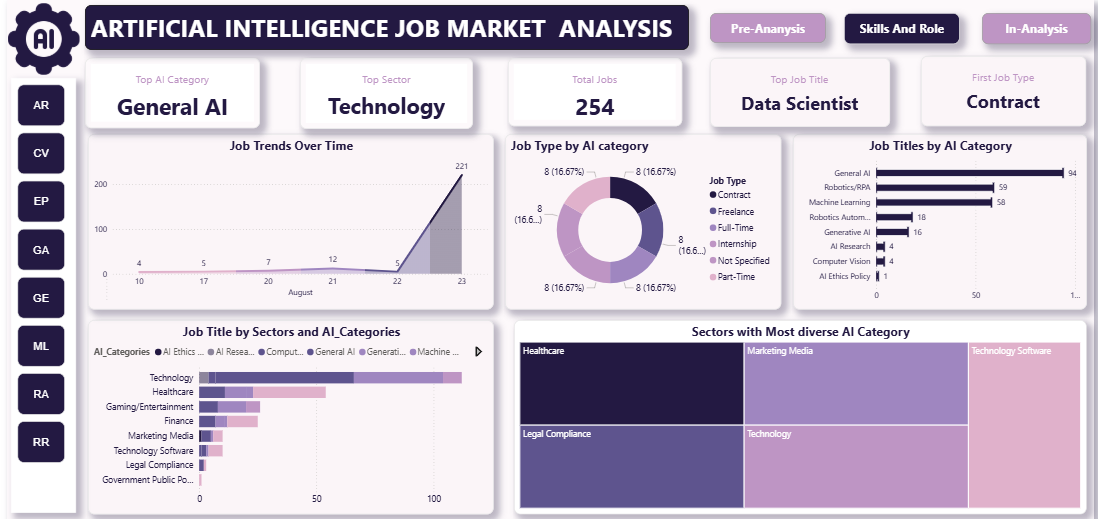

Layout of this report page (visuals, bound fields, positions):
{"tool":"powerbi","page":{"name":"AI JOB MARKET","canvas":[1700,800],"ordinal":0},"visuals":[{"type":"group","id":"g1","title":"Group 1","box":[0,0,1688.1,800],"z":0},{"type":"shape","box":[14.9,0,1673.1,800],"z":0,"group":"g1"},{"type":"ChicletSlicer1448559807354","fields":{"Category":["AI_Categories_Abbrev.Abbrev"]},"box":[20.9,119.4,100,668.7],"z":1000,"group":"g1"},{"type":"barChart","title":"Job Title by Sectors and AI_Categories","fields":{"Category":["Dim_Sector.Sectors"],"Y":["CountNonNull(General_Table.Job Title)"],"Series":["Dim_AI_Category.AI_Categories"]},"box":[140.3,492.5,623.9,298.5],"z":1000},{"type":"image","box":[0,0,144.6,120],"z":2000,"group":"g1"},{"type":"areaChart","title":"Job Trends Over Time","fields":{"Y":["CountNonNull(General_Table.Job Title)"],"Category":["General_Table.Date Posted.Variation.Date Hierarchy.Month","General_Table.Date Posted.Variation.Date Hierarchy.Day"]},"box":[140.3,206,623.9,270.1],"z":2000},{"type":"textbox","box":[135.4,7.7,929.2,69.2],"z":3000,"group":"g1"},{"type":"cardVisual","fields":{"Data":["General_Table.Top AI Category"]},"box":[135.4,89.2,269.2,107.7],"z":3000},{"type":"cardVisual","fields":{"Data":["General_Table.Top Job Title"]},"box":[1096.9,89.2,276.9,106.2],"z":4000},{"type":"barChart","title":"Job Titles by AI Category","fields":{"Category":["Dim_AI_Category.AI_Categories"],"Y":["CountNonNull(General_Table.Job Title)"]},"box":[1225.4,206,452.2,270.1],"z":4000,"group":"g1"},{"type":"cardVisual","fields":{"Data":["General_Table.Total Jobs"]},"box":[786.2,89.2,267.7,104.6],"z":5000},{"type":"donutChart","title":"Job Type by AI category","fields":{"Category":["General_Table.Job Type"],"Y":["CountNonNull(Dim_AI_Category.AI_Categories)"]},"box":[782.1,206,425.4,270.1],"z":5000,"group":"g1"},{"type":"cardVisual","fields":{"Data":["General_Table.Top Sector"]},"box":[466.2,89.2,266.2,109.2],"z":6000},{"type":"cardVisual","fields":{"Data":["Min(General_Table.Job Type)"]},"box":[1421.5,86.2,253.8,107.7],"z":7000},{"type":"actionButton","title":"Pre-Analysis","box":[1096.9,20,178.5,46.2],"z":8000},{"type":"actionButton","box":[1303.1,20,178.5,47.7],"z":9000},{"type":"treemap","title":"Sectors with Most diverse AI Category","fields":{"Group":["Dim_Sector.Sectors"],"Values":["CountNonNull(Dim_AI_Category.AI_Categories)"]},"box":[795.5,492.5,880.6,298.5],"z":9001,"group":"g1"},{"type":"actionButton","box":[1515.4,20,167.7,47.7],"z":10000}]}

Visuals, with their boxes in screenshot pixels (x1, y1, x2, y2), scaled from the page's 1700x800 canvas onto the 1098x519 screenshot:
"Group 1" group: <bbox>0, 0, 1090, 518</bbox>
shape: <bbox>10, 0, 1090, 518</bbox>
ChicletSlicer1448559807354 - AI_Categories_Abbrev.Abbrev: <bbox>13, 77, 78, 511</bbox>
"Job Title by Sectors and AI_Categories" barChart: <bbox>91, 320, 494, 513</bbox>
image: <bbox>0, 0, 93, 78</bbox>
"Job Trends Over Time" areaChart: <bbox>91, 134, 494, 309</bbox>
textbox: <bbox>87, 5, 688, 50</bbox>
cardVisual - General_Table.Top AI Category: <bbox>87, 58, 261, 128</bbox>
cardVisual - General_Table.Top Job Title: <bbox>708, 58, 887, 127</bbox>
"Job Titles by AI Category" barChart: <bbox>791, 134, 1084, 309</bbox>
cardVisual - General_Table.Total Jobs: <bbox>508, 58, 681, 126</bbox>
"Job Type by AI category" donutChart: <bbox>505, 134, 780, 309</bbox>
cardVisual - General_Table.Top Sector: <bbox>301, 58, 473, 129</bbox>
cardVisual - Min(General_Table.Job Type): <bbox>918, 56, 1082, 126</bbox>
"Pre-Analysis" actionButton: <bbox>708, 13, 824, 43</bbox>
actionButton: <bbox>842, 13, 957, 44</bbox>
"Sectors with Most diverse AI Category" treemap: <bbox>514, 320, 1083, 513</bbox>
actionButton: <bbox>979, 13, 1087, 44</bbox>
